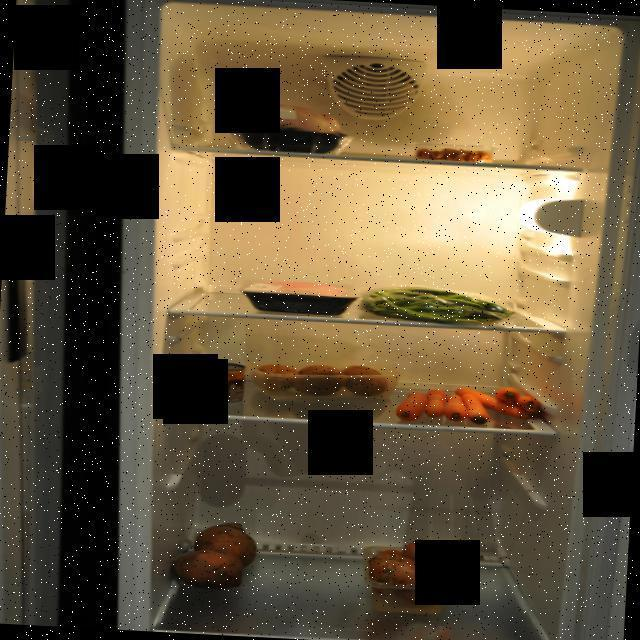beans: (358, 282, 520, 329)
beef: (238, 278, 362, 317)
carrot: (390, 378, 550, 432)
chicken breast: (222, 98, 358, 158)
corn: (195, 361, 247, 405)
onion: (358, 536, 457, 616)
potato: (252, 357, 393, 404)
shrimp: (412, 147, 496, 163)
sweet potato: (175, 514, 262, 598)
